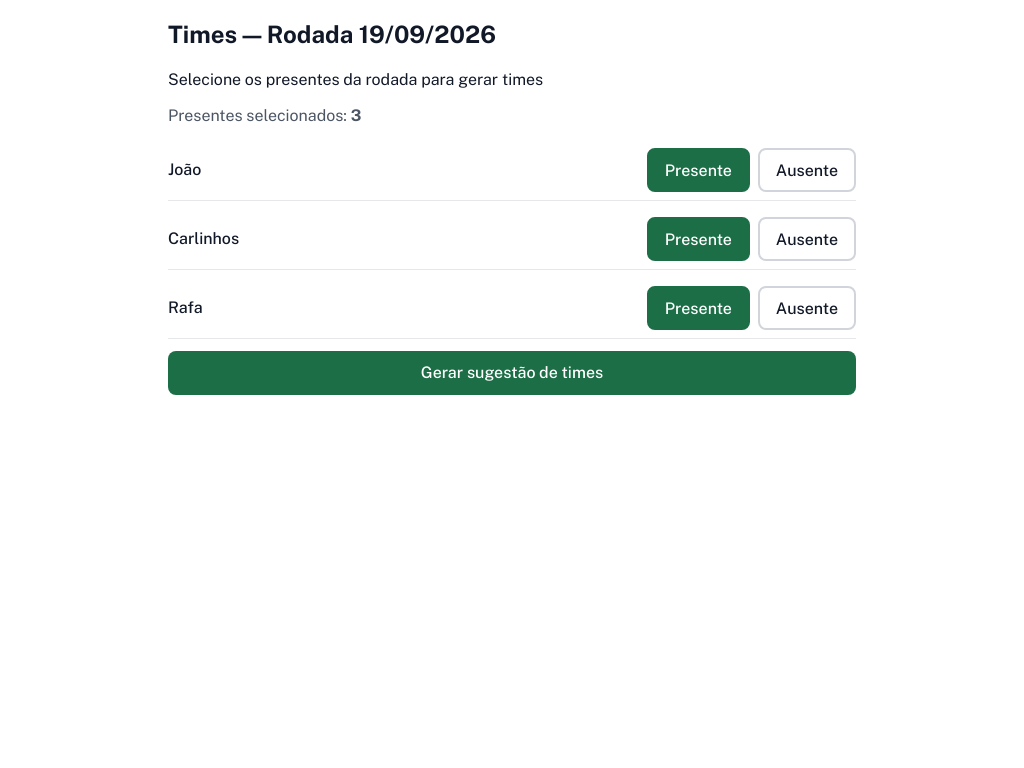
Test: MontagemTimesShell › Confirmar Times com erro (409 substituição existente) mostra a mensagem do servidor via toast
Check: the heading "Times — Rodada 19/09/2026" is shown, box [168, 20, 496, 48]
Click the button "Gerar sugestão de times". click: (512, 373)
box: [168, 351, 856, 395]
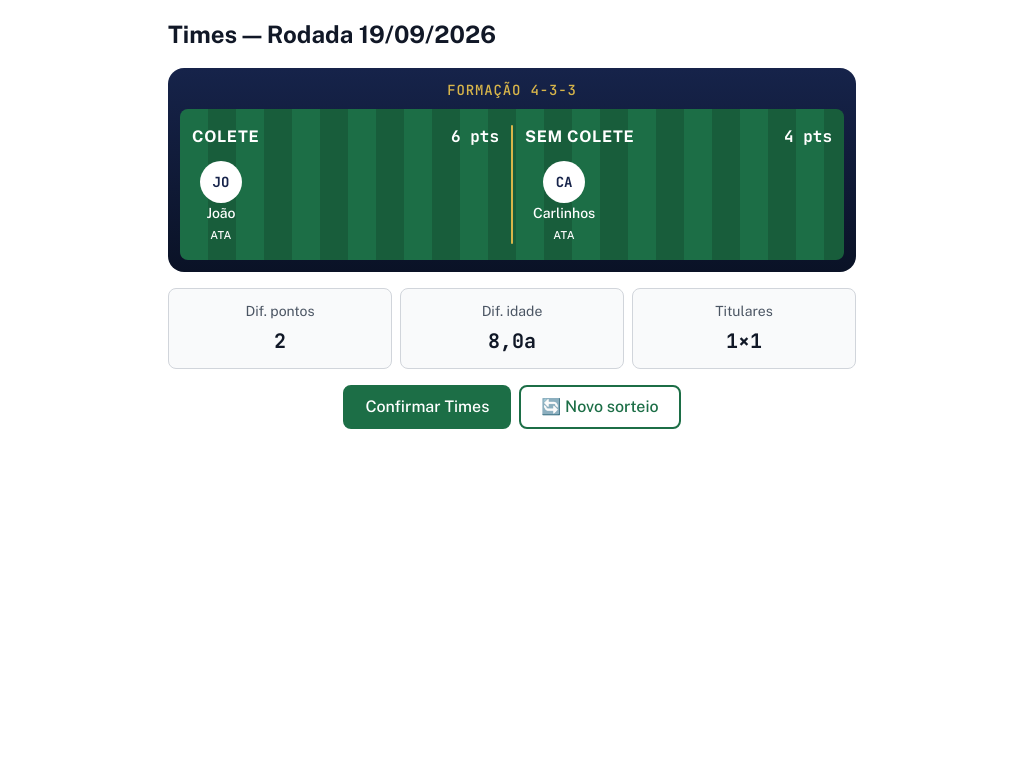
Check: the heading "Colete" is shown, box [192, 125, 259, 149]
Click the button "Confirmar Times". click: (427, 406)
box: [343, 384, 511, 428]
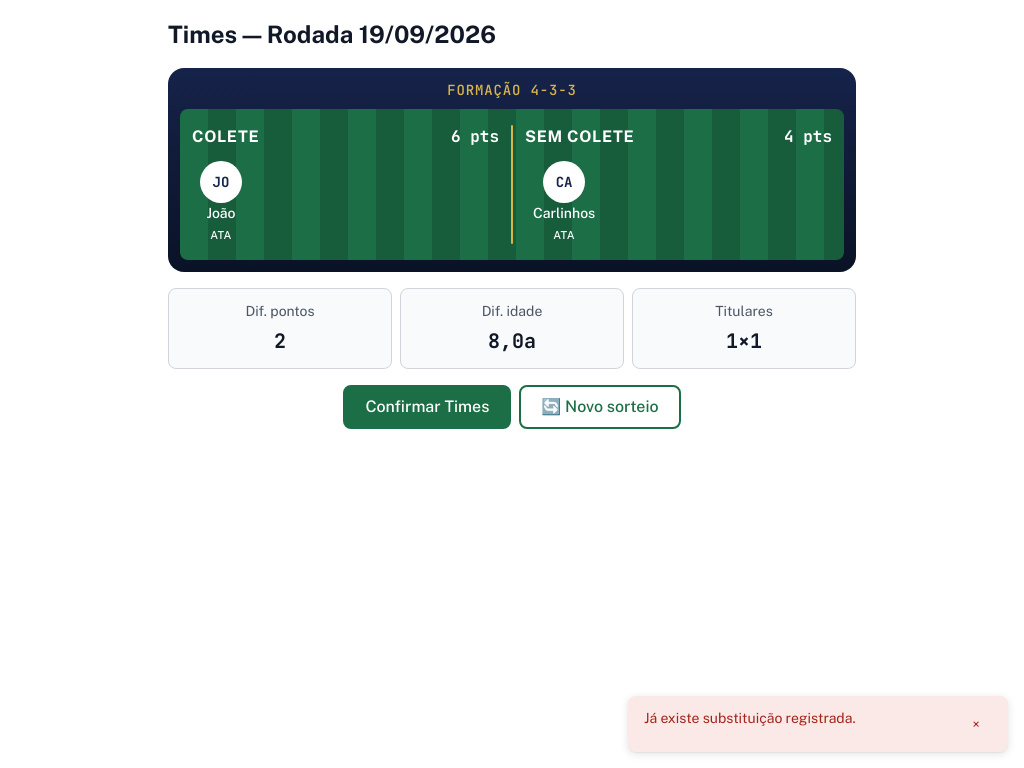
Check: the text "Já existe substituição registrada." is shown, box [644, 710, 856, 726]
